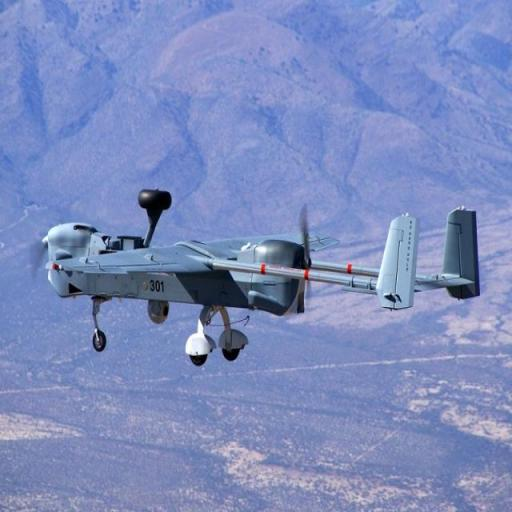uav: (35, 182, 484, 383)
